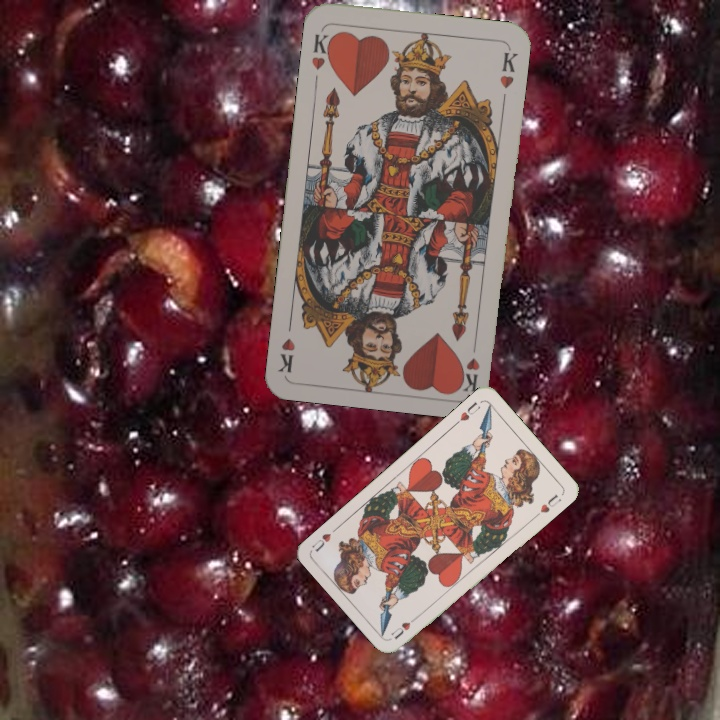HK: (457, 335, 482, 394), (307, 29, 336, 72)
HU: (387, 612, 421, 642), (451, 397, 483, 428)
